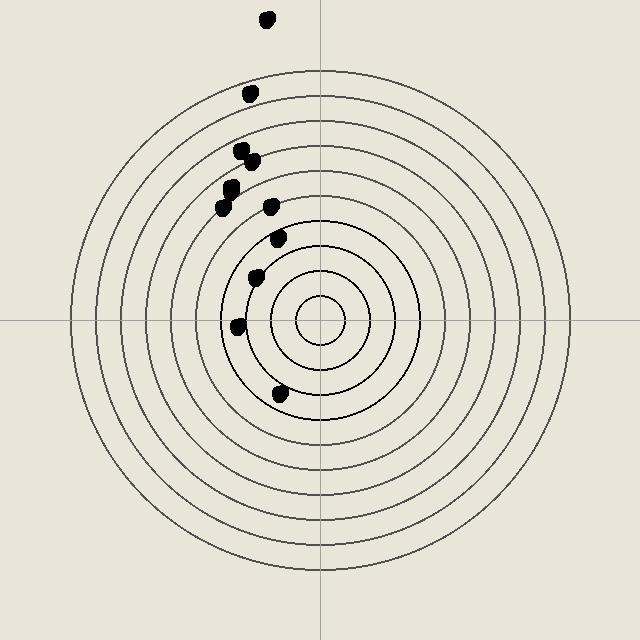vertical_scatter: (267, 228, 287, 248), (241, 151, 261, 171), (245, 267, 265, 287), (227, 316, 247, 336), (239, 83, 259, 103), (220, 177, 240, 197), (220, 181, 240, 201), (260, 196, 280, 216), (230, 140, 250, 160), (212, 197, 232, 217), (256, 9, 276, 29), (269, 383, 289, 403)
